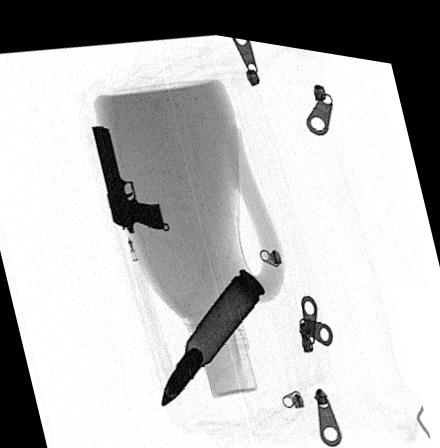Bullet: (161, 259, 265, 400)
Gun: (91, 119, 164, 230)
